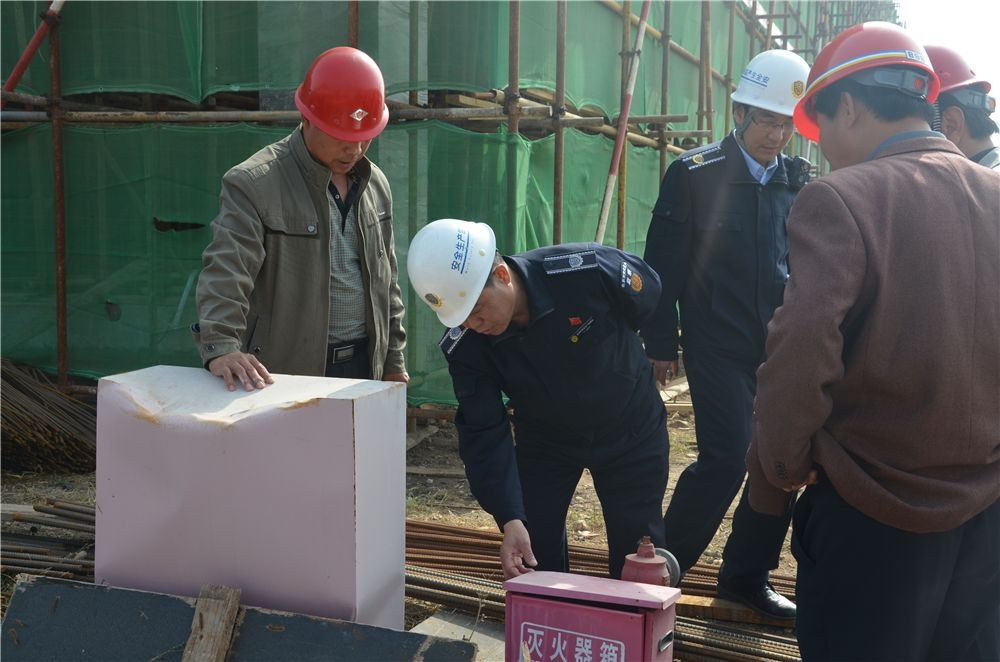red: (792, 13, 938, 177), (292, 44, 389, 170), (907, 36, 997, 160)
white: (402, 209, 525, 344), (726, 47, 815, 162)
